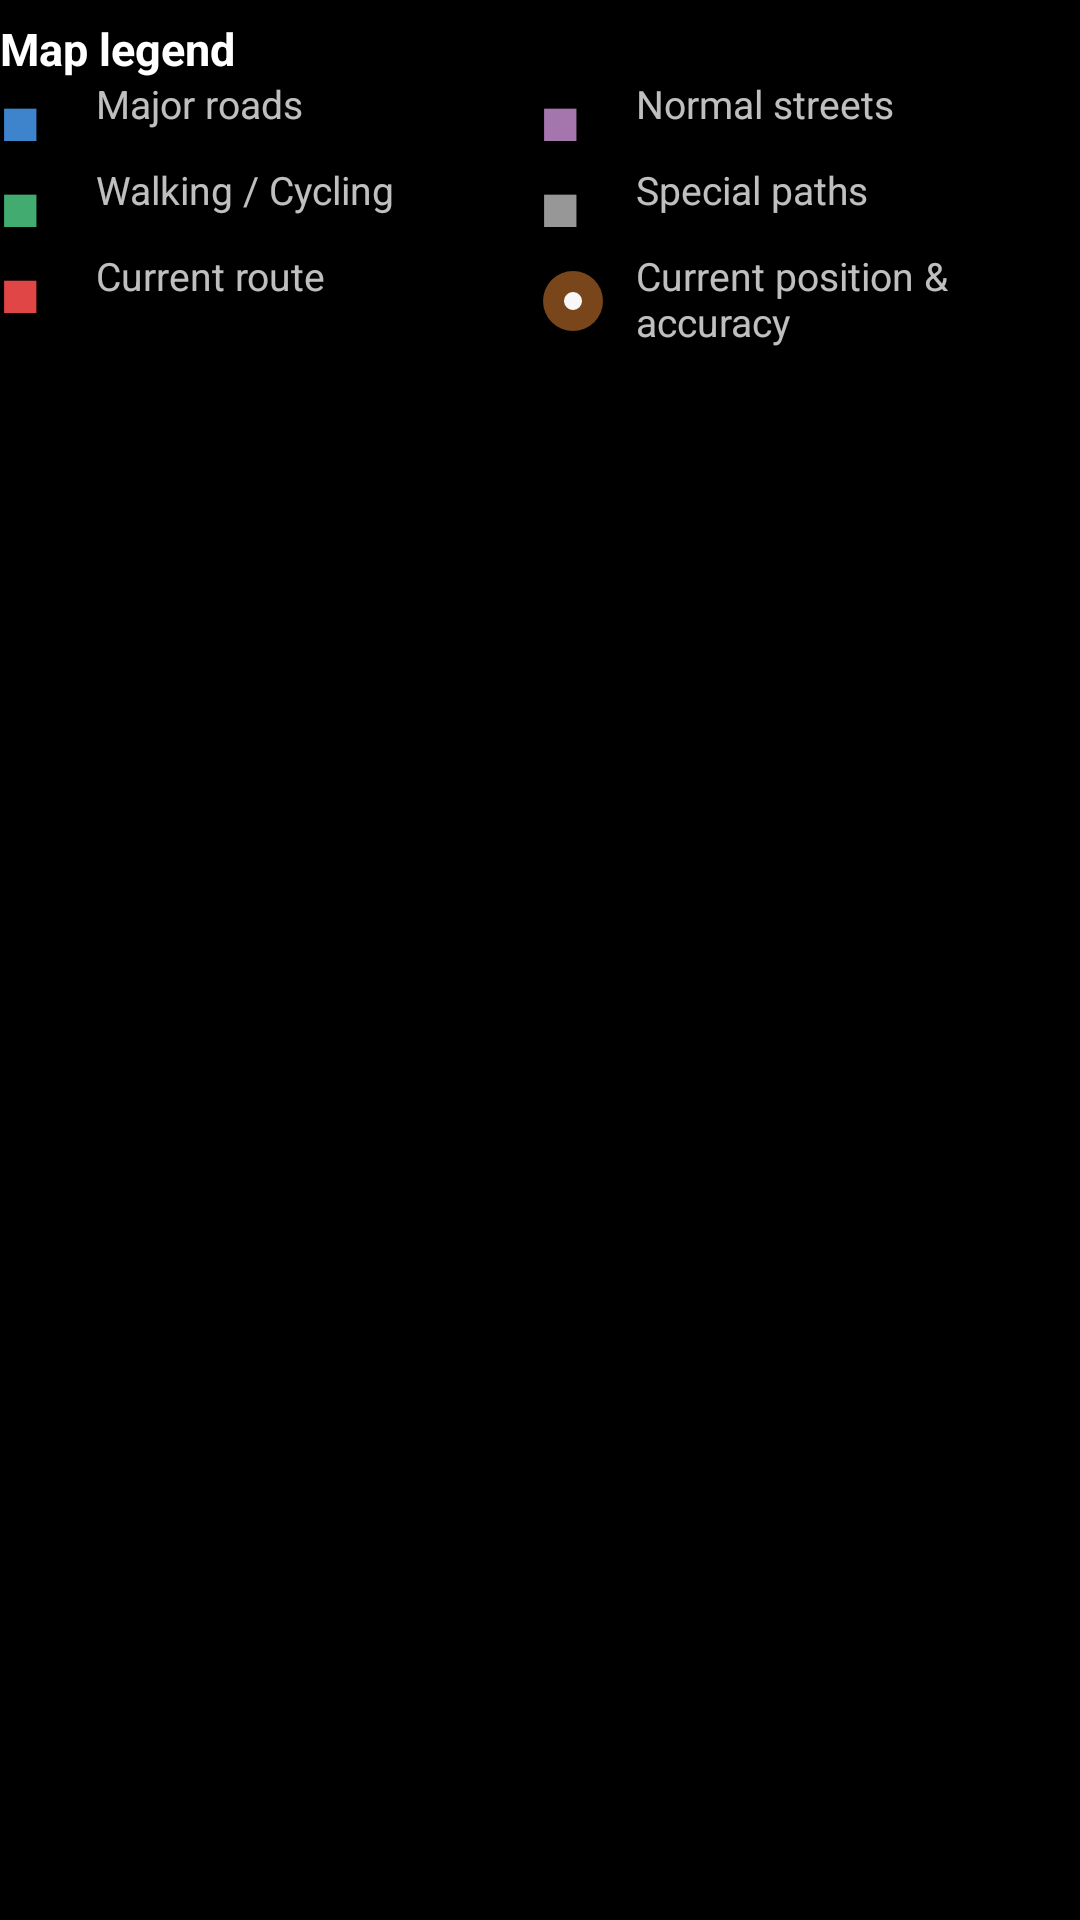

Icon click points for this 1080×1920 phone screenshot, format (x,y):
legend position accuracy: (573,301)
